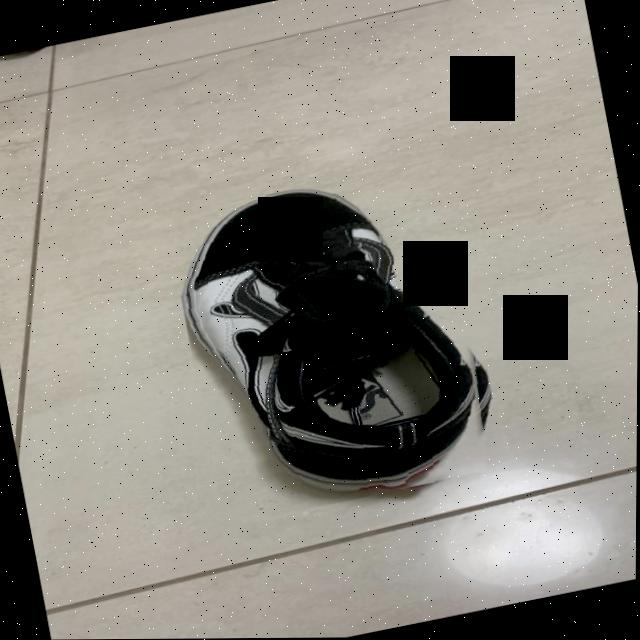shoe: (164, 158, 512, 529)
